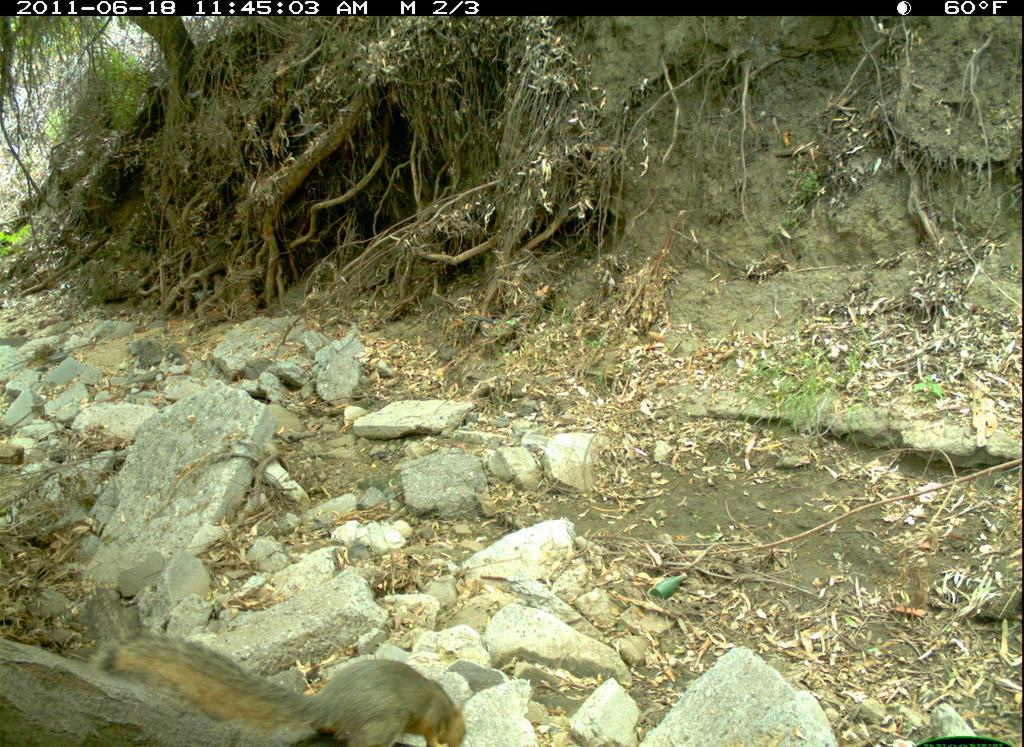squirrel: (96, 635, 469, 747)
